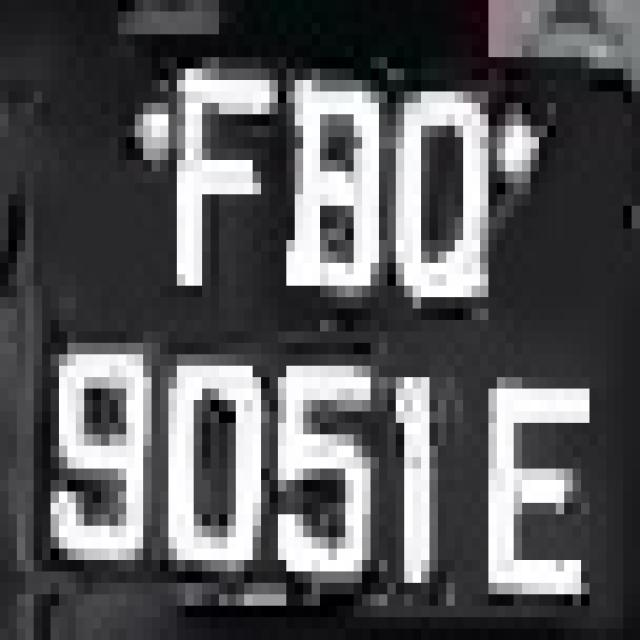0: (160, 332, 269, 617)
1: (379, 343, 446, 617)
5: (261, 354, 387, 606)
9: (42, 286, 152, 571)
B: (278, 69, 387, 297)
E: (480, 354, 598, 629)
F: (160, 23, 269, 331)
Q: (387, 80, 514, 309)
